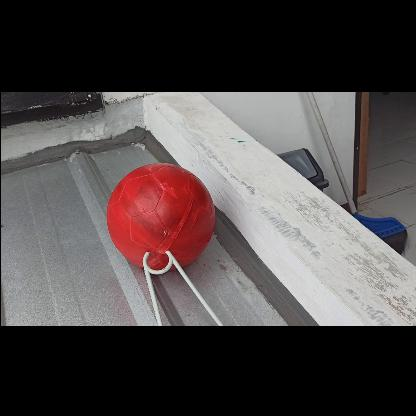red_ball: (104, 161, 212, 269)
